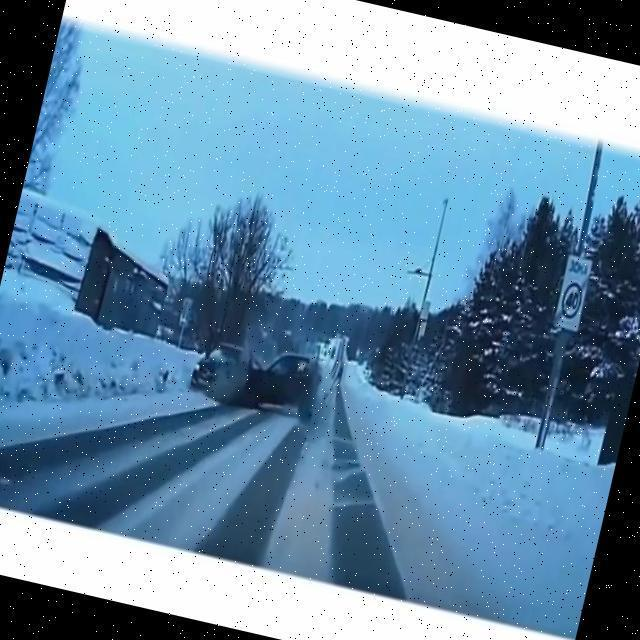accident: (184, 326, 328, 429)
